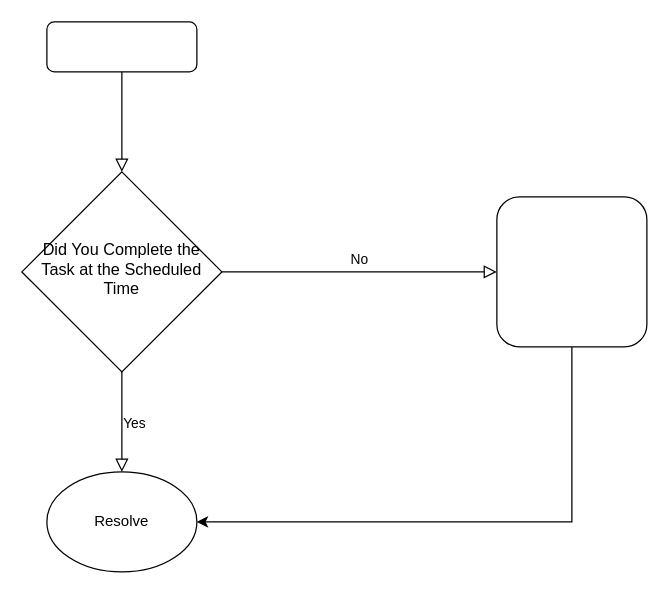
Image size: 669x594. Some labels were removed from this diagram. Here are the shapes that lost their labels. From the top down, the centre of each, then its label:
the point at 121,46: Complete Button
the point at 571,271: UI Early:Late X Minutes
